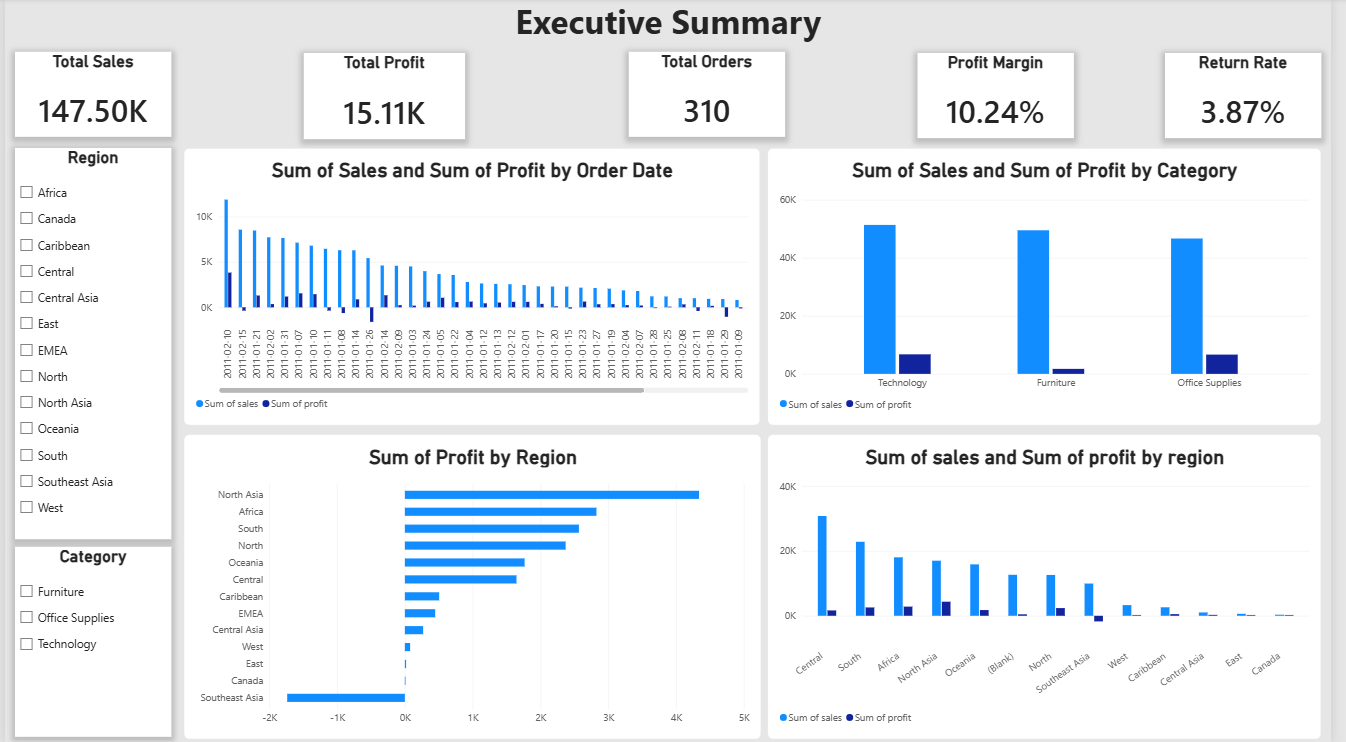

Layout of this report page (visuals, bound fields, positions):
{"tool":"powerbi","page":{"name":"EXECUTIVE SUMMARY","canvas":[1920,1080],"ordinal":0},"visuals":[{"type":"cardVisual","title":"Total Sales","fields":{"Data":["Sum(superstore_db orders.sales)"]},"box":[14.5,77.8,226.2,123.1],"z":0},{"type":"cardVisual","title":"Total Profit","fields":{"Data":["Sum(superstore_db orders.profit)"]},"box":[432.5,79.6,233.4,124.9],"z":1000},{"type":"cardVisual","title":"Profit Margin","fields":{"Data":["superstore_db orders.Profit Margin"]},"box":[1321.1,79.6,226,123],"z":2000},{"type":"cardVisual","title":"Total Orders","fields":{"Data":["superstore_db orders.Total Orders"]},"box":[903,77.8,226,123],"z":3000},{"type":"lineClusteredColumnComboChart","title":"Sum of Sales and Sum of Profit by Order Date","fields":{"Category":["superstore_db orders.order_date"],"Y":["Sum(superstore_db orders.sales)","Sum(superstore_db orders.profit)"]},"box":[258.8,217.2,834.3,401.7],"z":4000},{"type":"clusteredColumnChart","title":"Sum of Sales and Sum of Profit by Category","fields":{"Category":["superstore_db orders.category"],"Y":["Sum(superstore_db orders.sales)","Sum(superstore_db orders.profit)"]},"box":[1103.9,217.2,801.5,401.8],"z":5000},{"type":"barChart","title":"Sum of Profit by Region","fields":{"Category":["superstore_db orders.region"],"Y":["Sum(superstore_db orders.profit)"]},"box":[258.8,631.6,836.1,441.6],"z":6000},{"type":"cardVisual","title":"Return Rate","fields":{"Data":["superstore_db orders.Return Rate"]},"box":[1679.4,79.6,226,123],"z":7000},{"type":"textbox","box":[942,631,150,429],"z":8000},{"type":"textbox","box":[0,0,1920.1,77.8],"z":9000},{"type":"slicer","title":"Region","fields":{"Values":["superstore_db orders.region"]},"box":[14.5,217.2,226.2,566.4],"z":10000},{"type":"slicer","title":"Category","fields":{"Values":["superstore_db orders.category"]},"box":[14.5,794.4,226.2,275.1],"z":11000},{"type":"clusteredColumnChart","fields":{"Category":["superstore_db people.region"],"Y":["Sum(superstore_db orders.sales)","Sum(superstore_db orders.profit)"]},"box":[1103.9,631.6,801.7,441.6],"z":12000}]}

Visuals, with their boxes in screenshot pixels (x1, y1, x2, y2), scaled from the page's 1920x1080 canvas onto the 1346x742 screenshot:
"Total Sales" cardVisual: 10:53:169:138
"Total Profit" cardVisual: 303:55:467:140
"Profit Margin" cardVisual: 926:55:1085:139
"Total Orders" cardVisual: 633:53:791:138
"Sum of Sales and Sum of Profit by Order Date" lineClusteredColumnComboChart: 181:149:766:425
"Sum of Sales and Sum of Profit by Category" clusteredColumnChart: 774:149:1336:425
"Sum of Profit by Region" barChart: 181:434:768:737
"Return Rate" cardVisual: 1177:55:1336:139
textbox: 660:434:766:728
textbox: 0:0:1345:53
"Region" slicer: 10:149:169:538
"Category" slicer: 10:546:169:735
clusteredColumnChart - superstore_db people.region x Sum(superstore_db orders.sales): 774:434:1336:737
